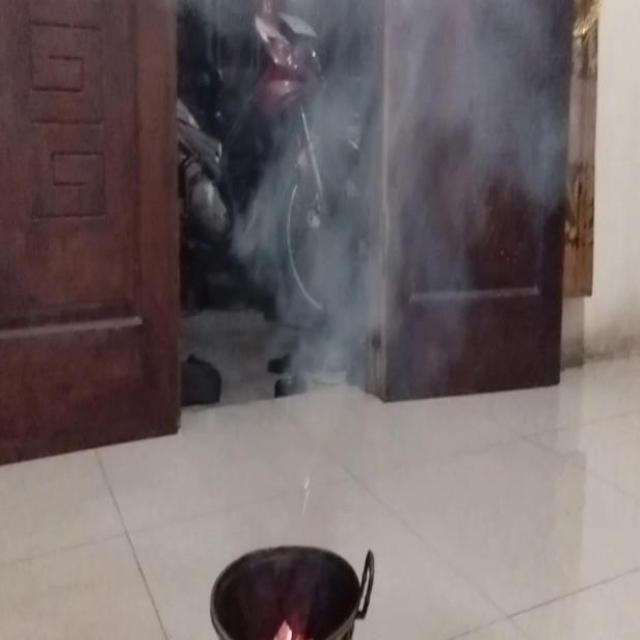fire: (252, 0, 548, 403)
